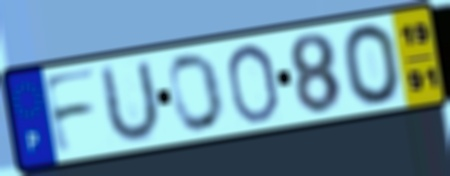8: (287, 29, 346, 117)
F: (40, 66, 100, 158)
O: (339, 21, 404, 108), (167, 50, 227, 135), (224, 41, 282, 126)
U: (99, 56, 163, 147)
